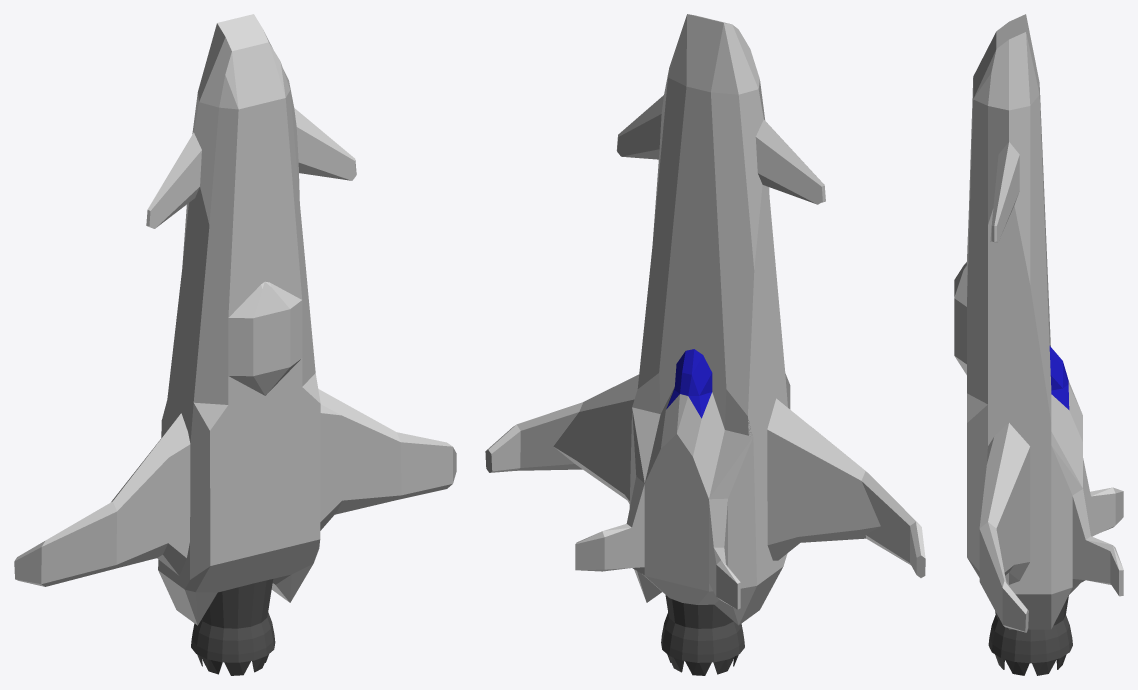
File: Swarm.fbx
The picture shows the model from 3 angles, left to right: view 1: azimuth 30°, elevation 25°; view 2: azimuth 150°, elevation 25°; view 3: azimuth 270°, elevation 25°; orthographic projection.
Visible parts, largest first — view 1: SmallBody; view 2: SmallBody; view 3: SmallBody.
Part boxes in pixels (x1,y1,x2,y2): SmallBody: (14,14,456,675); SmallBody: (485,14,925,675); SmallBody: (954,14,1123,675).
Bounding box in the file's own units: 1198 × 1669 × 401.
